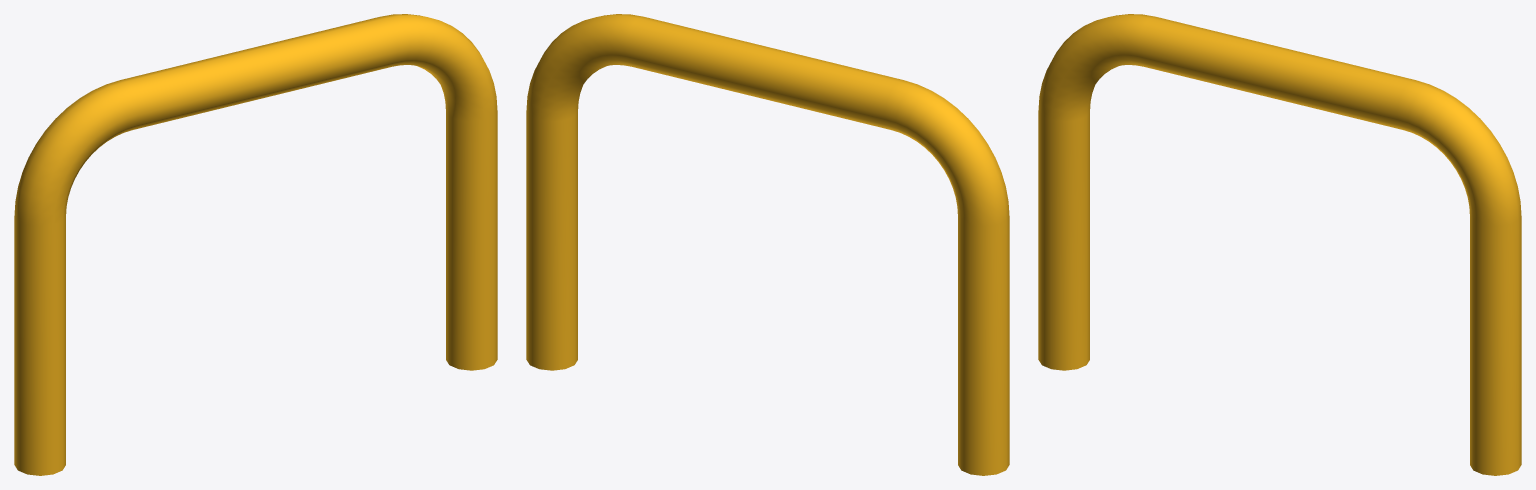
The model's file is gateLargeWide_teamYellow.glb.
The picture shows the model from 3 angles, left to right: view 1: azimuth 30°, elevation 25°; view 2: azimuth 150°, elevation 25°; view 3: azimuth 330°, elevation 25°; orthographic projection.
Visible parts, largest first — view 1: gateLargeWide_teamYellow; view 2: gateLargeWide_teamYellow; view 3: gateLargeWide_teamYellow.
Boxes of the visible parts, x1,y1,x2,y2 form: gateLargeWide_teamYellow: [14, 14, 497, 475]; gateLargeWide_teamYellow: [526, 14, 1009, 475]; gateLargeWide_teamYellow: [1038, 14, 1521, 475].
Bounding box in the file's own units: 1.3 × 0.9472 × 0.1221.
